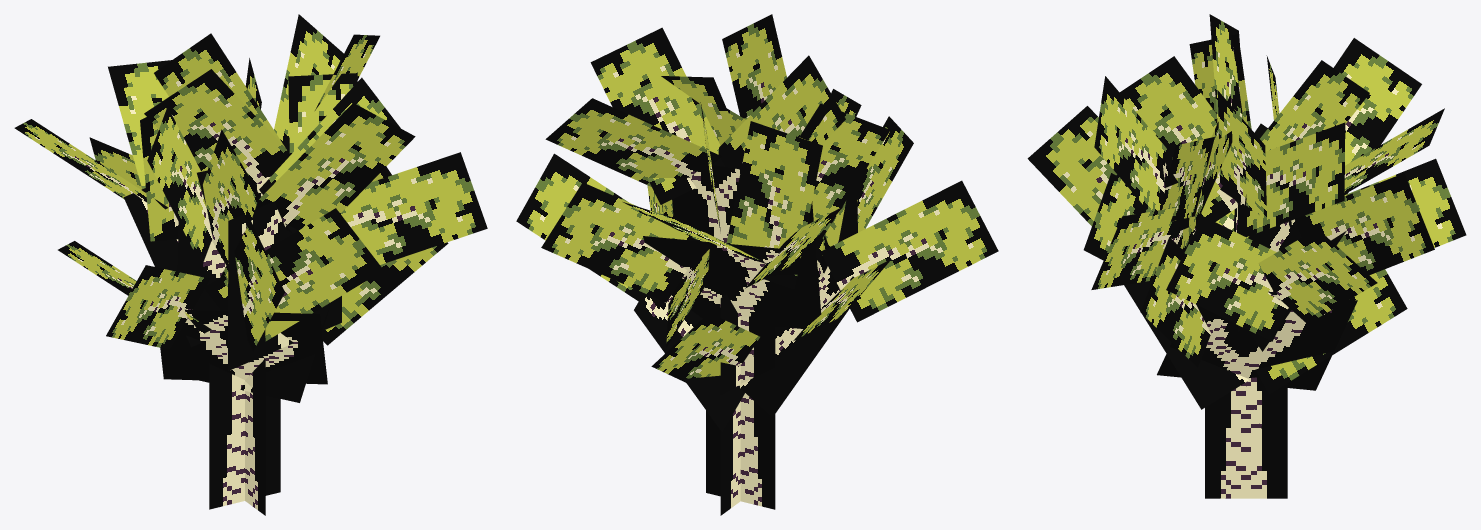
File: tree.gltf
The picture shows the model from 3 angles, left to right: view 1: azimuth 30°, elevation 25°; view 2: azimuth 150°, elevation 25°; view 3: azimuth 270°, elevation 25°; orthographic projection. The views are drawn at different scales.
Parts seen in each view (by area): view 1: branch0, branch4, branch3, trunk, branch2; view 2: branch4, branch3, branch0, trunk, branch2, branch1; view 3: branch4, branch2, branch0, branch3, trunk, branch1.
Part boxes in pixels (x1,y1,x2,y2): branch0: (58, 73, 487, 384); branch4: (144, 14, 379, 310); branch3: (14, 58, 261, 346); trunk: (209, 358, 280, 515); branch2: (199, 166, 448, 402); branch4: (545, 27, 890, 322); branch3: (541, 121, 843, 347); branch0: (661, 14, 998, 416); trunk: (706, 294, 775, 515); branch2: (516, 153, 744, 432); branch1: (651, 313, 759, 382); branch4: (1119, 14, 1369, 343); branch2: (1140, 216, 1377, 390); branch0: (1027, 76, 1267, 409); branch3: (1248, 38, 1466, 351); trunk: (1205, 377, 1287, 498); branch1: (1255, 269, 1407, 393).
Bounding box in the file's own units: 5.16 × 6.14 × 5.32.
1 material, 1 textured.
